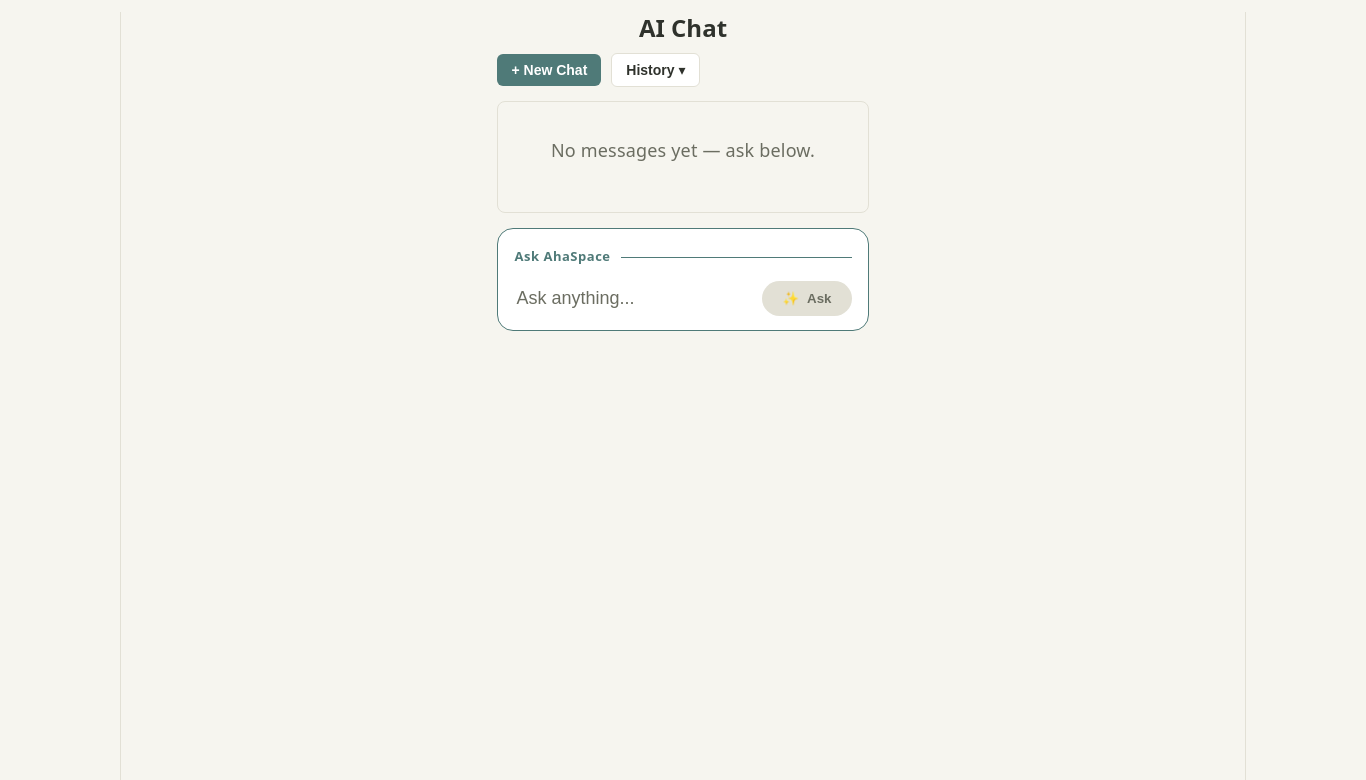
Chat Component › sends message and displays it in chat history
Step 1. Type "Hello AI" into the field with placeholder "Ask anything..." → (632, 299), box [514, 287, 750, 310]
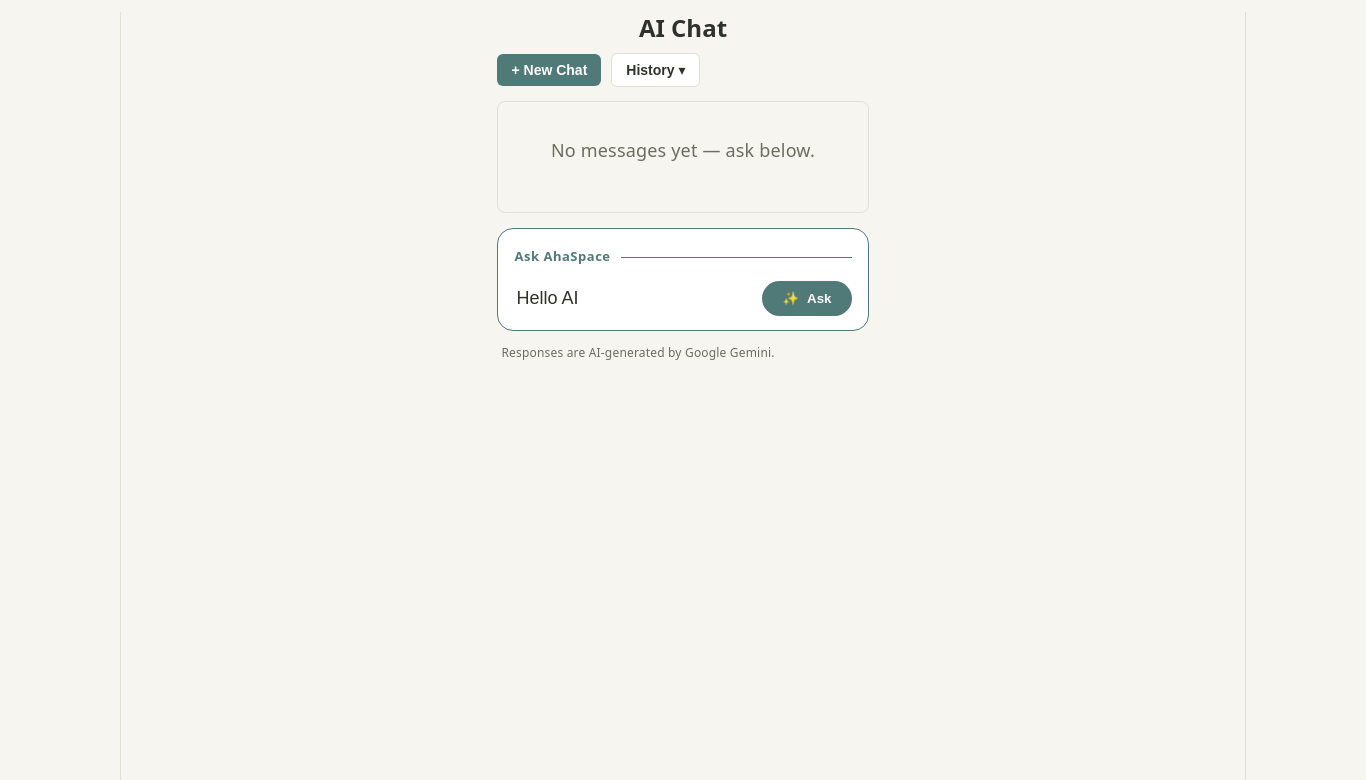
Step 2. Click the button "✨ Ask" → (807, 299), box [762, 281, 852, 316]
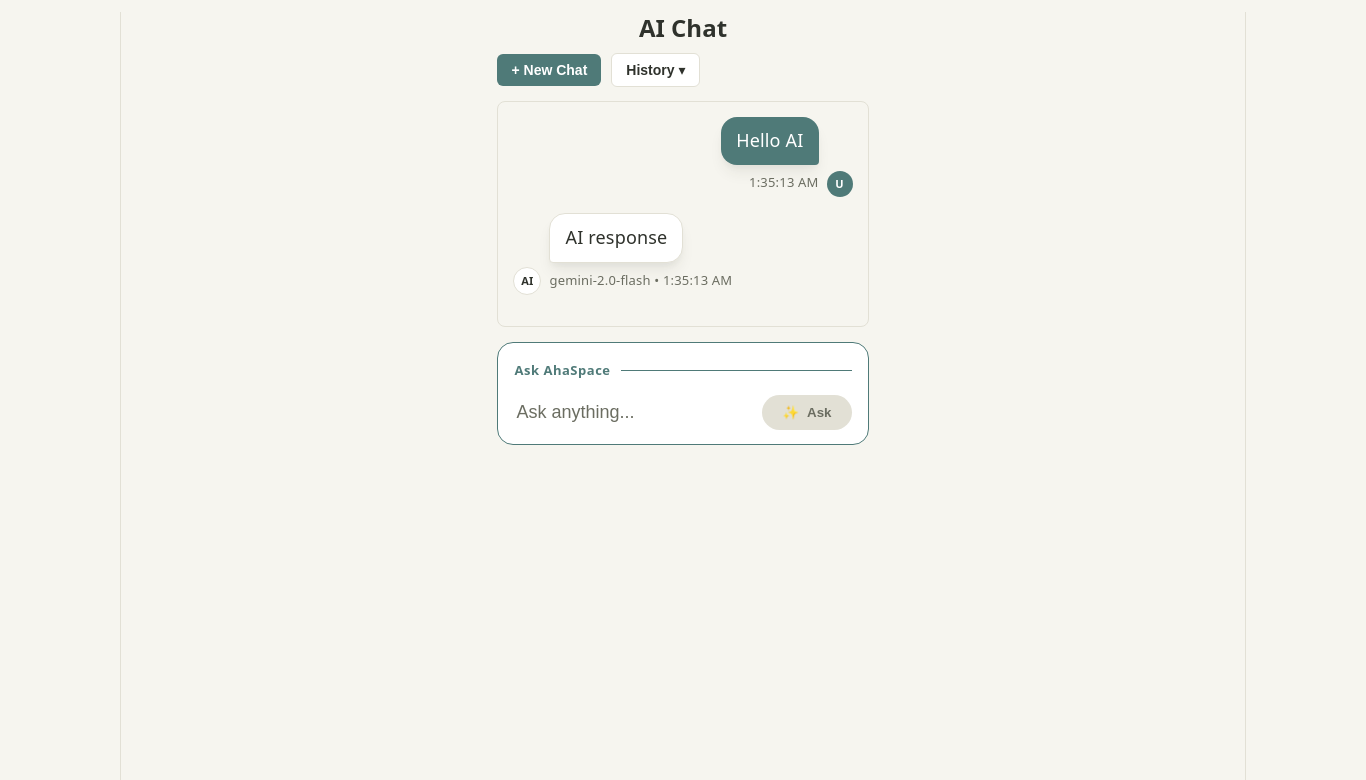
Expected: the text "Hello AI" is shown, [721, 117, 818, 165]
